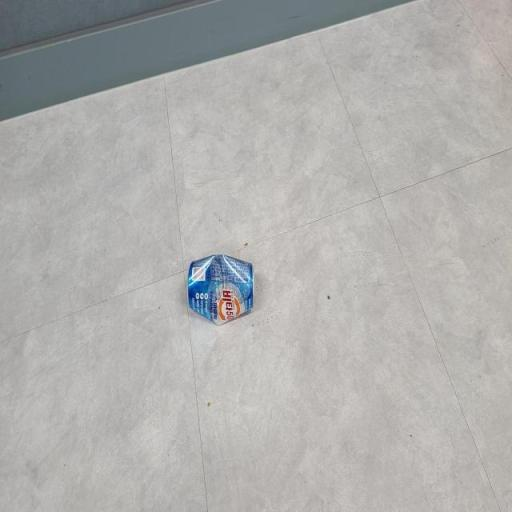metal: (180, 239, 260, 334)
